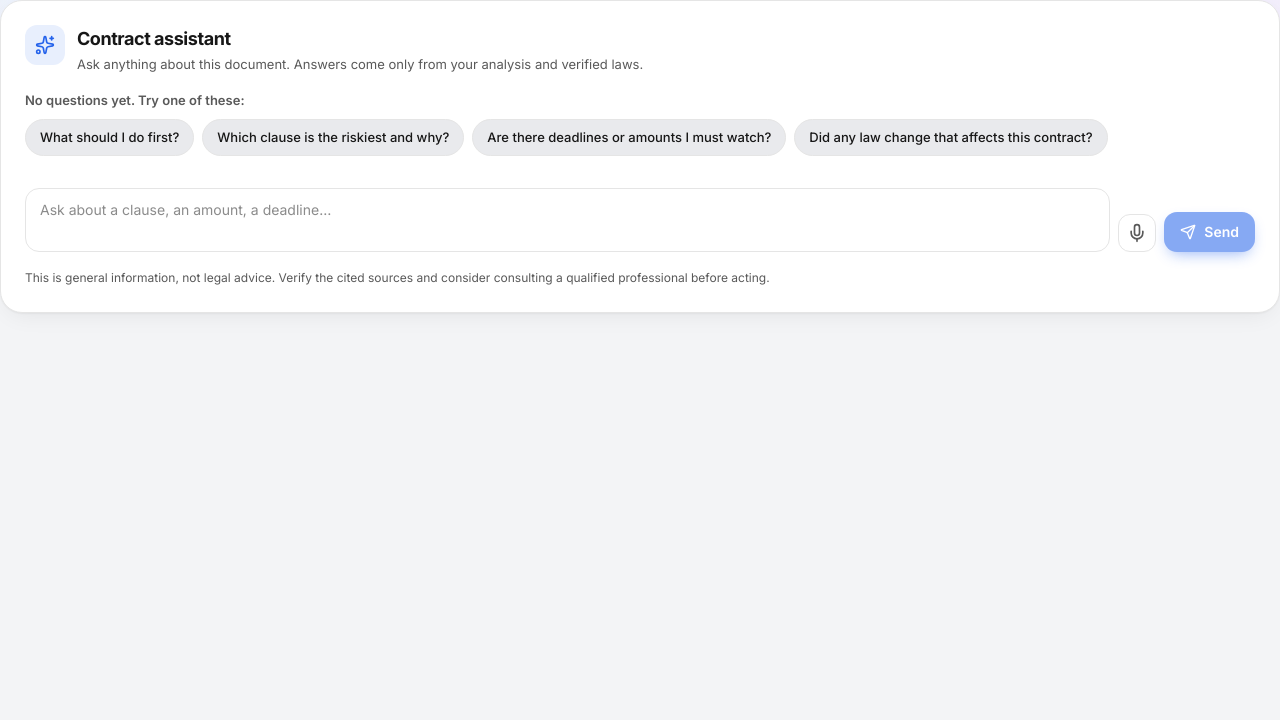
it: AssistantPanel › shows suggested questions and sends one when clicked
Click the button "What should I do first?".
click(110, 137)  # box [25,119,194,156]
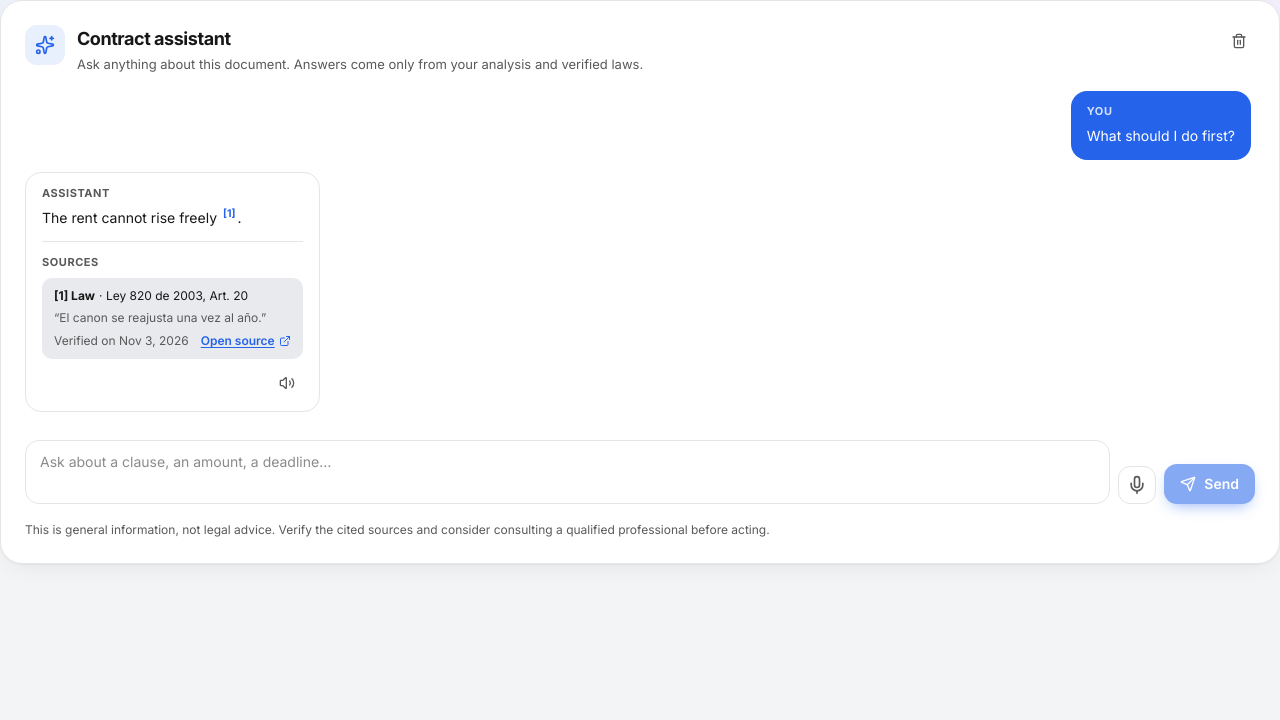
Expected: the text "The rent cannot rise freely [1] ." is shown, [42,207,242,226]
